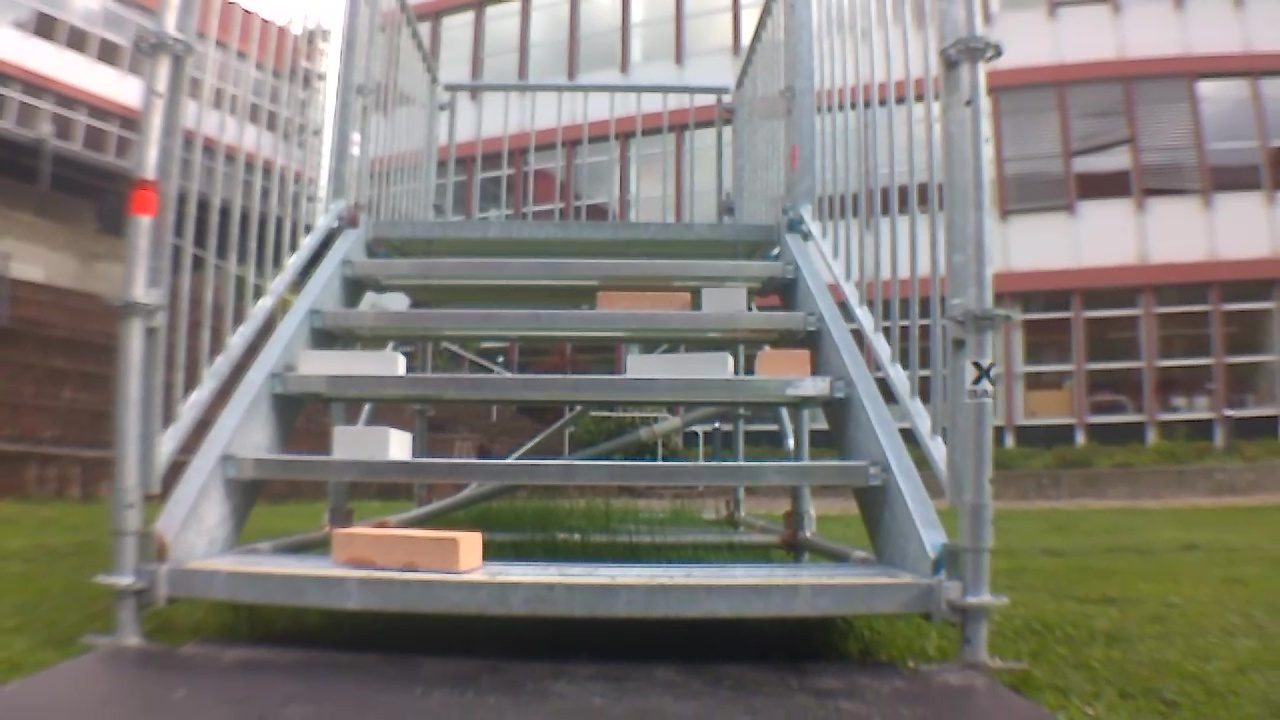brick: (332, 528, 482, 571), (299, 351, 404, 375), (334, 427, 412, 459), (630, 352, 732, 376), (597, 292, 689, 311), (758, 349, 809, 376), (702, 289, 746, 311)
edge: (170, 564, 937, 616), (223, 454, 888, 483), (268, 374, 845, 400), (308, 309, 819, 329), (342, 259, 800, 278), (373, 220, 781, 239)
stairs: (95, 8, 1018, 682)
steps: (160, 213, 954, 623)
